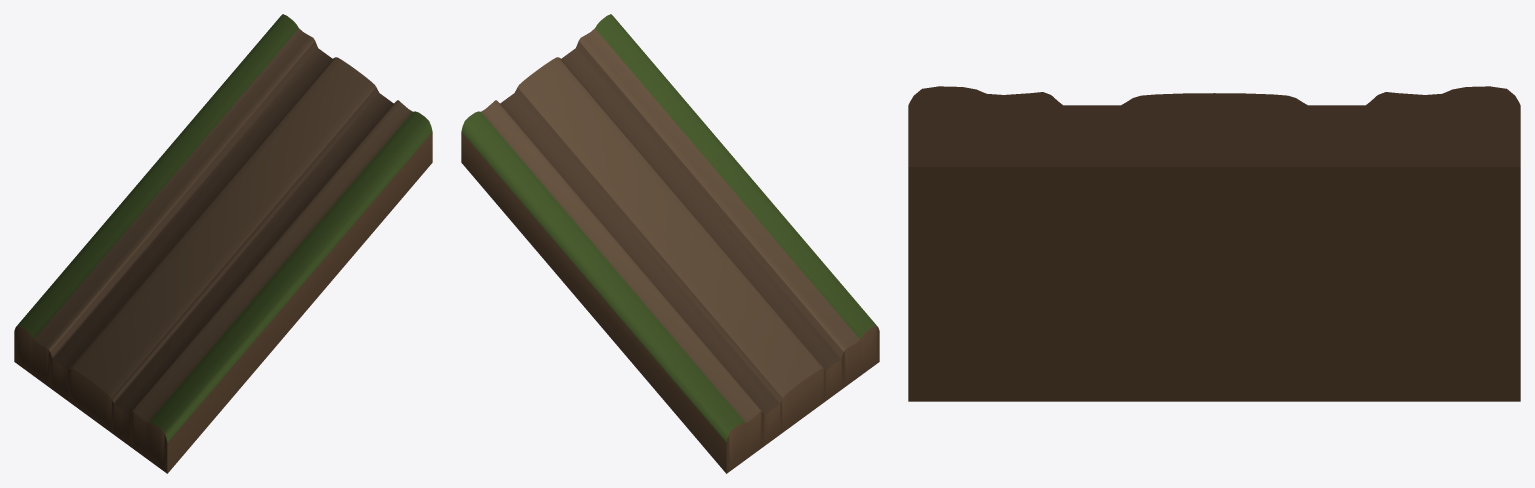
The picture shows the model from 3 angles, left to right: view 1: azimuth 30°, elevation 25°; view 2: azimuth 150°, elevation 25°; view 3: azimuth 270°, elevation 25°; orthographic projection. The views are drawn at different scales.
Visible parts, largest first — view 1: b4o; view 2: b4o; view 3: b4o.
Boxes of the visible parts, x1,y1,x2,y2 form: b4o: (14, 14, 432, 473); b4o: (461, 14, 879, 473); b4o: (908, 86, 1520, 401).
Bounding box in the file's own units: 9 × 9.31 × 9.
